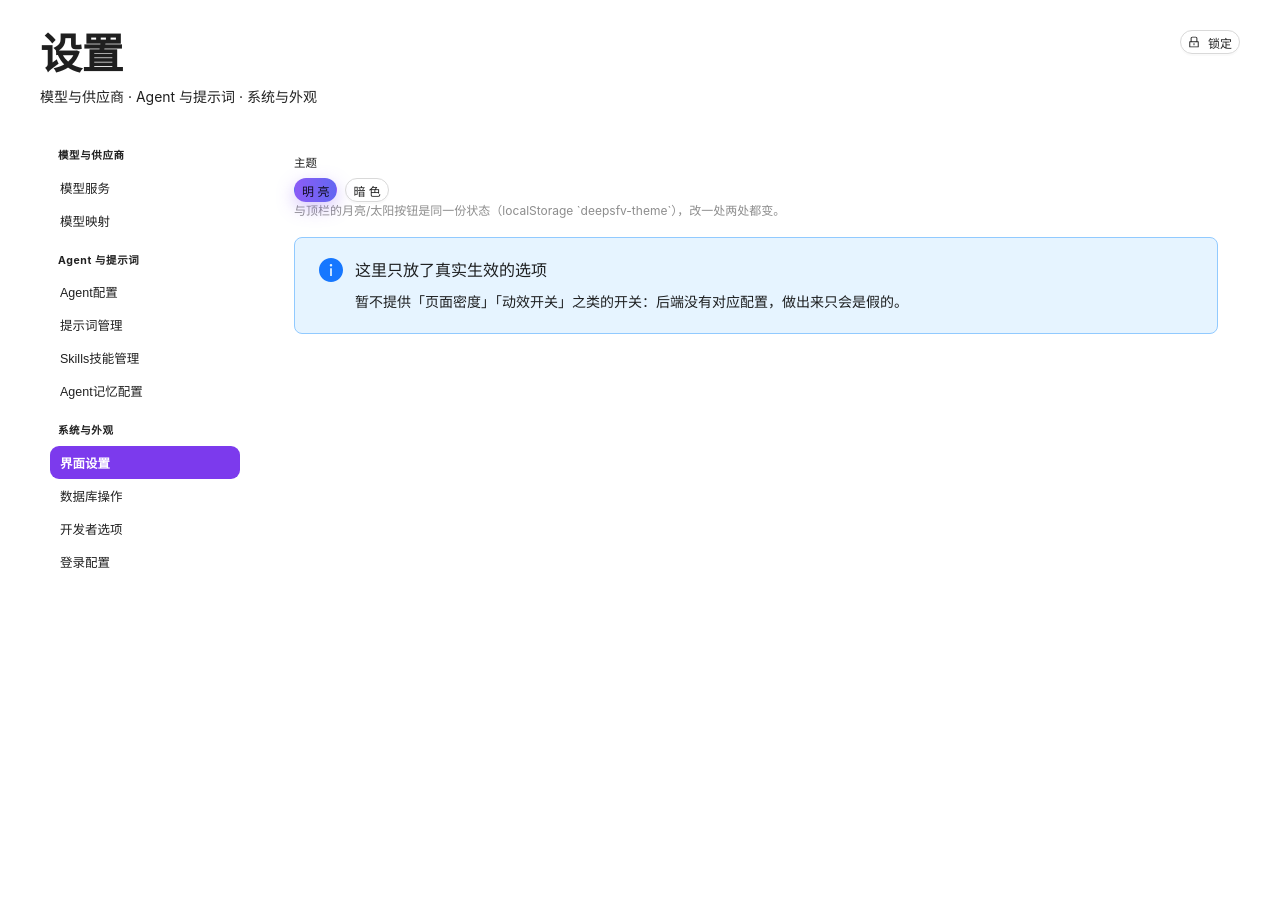
Test: 模型服务面板 › 按供应商声明渲染输入项，密码字段用密码框
This screenshot has width=1280, height=899.
Expected: the text "主题" is shown, [294,156,317,170]
Click the button "模型服务": (145, 187) [50,171,240,204]
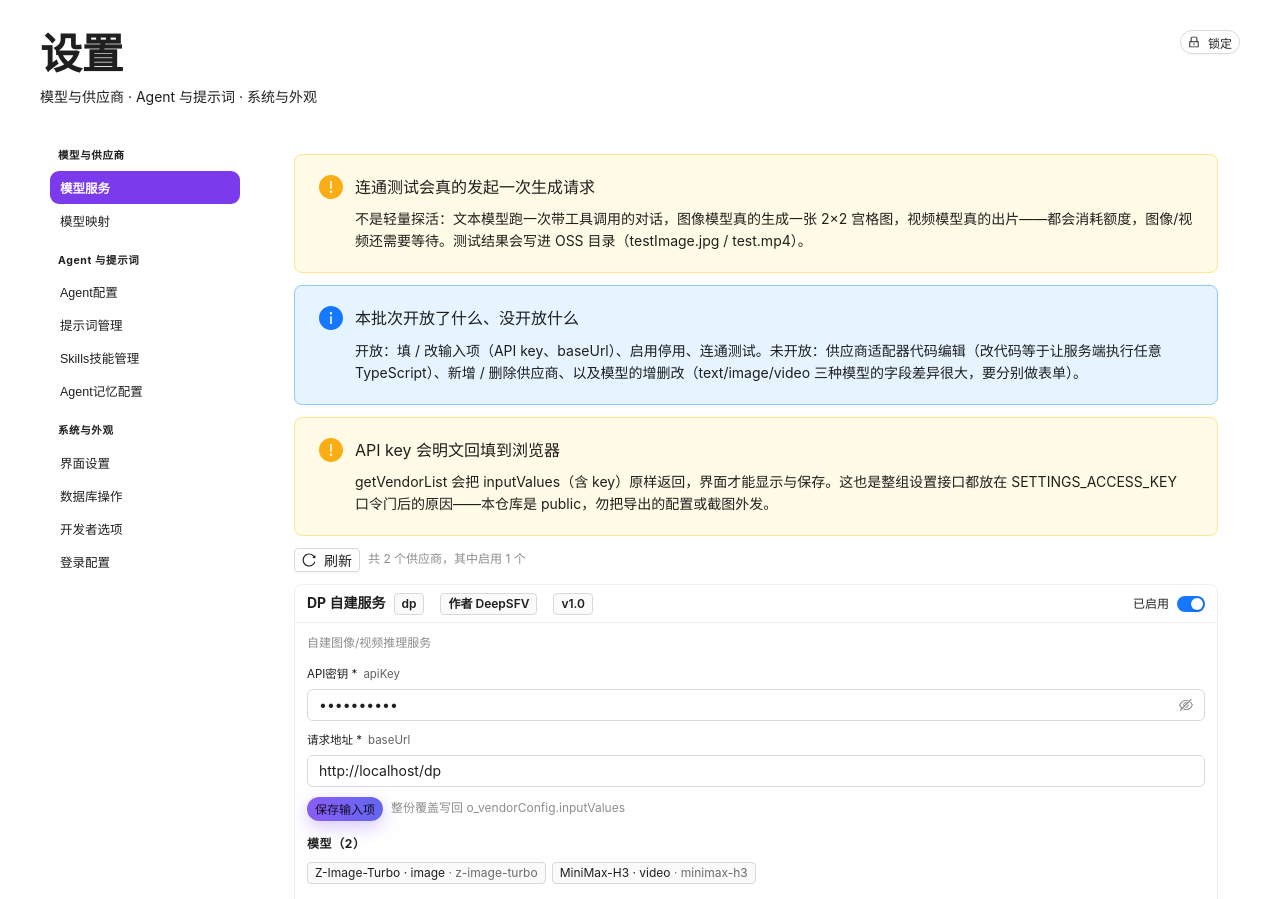
Expected: the text "DP 自建服务" is shown, [307,594,386,611]
Expected: the password field with placeholder "sk-dp-..." holds "sk-dp-test", [319,694,1175,716]
Expected: the field showing "http://localhost/dp" is shown, [307,755,1205,787]
